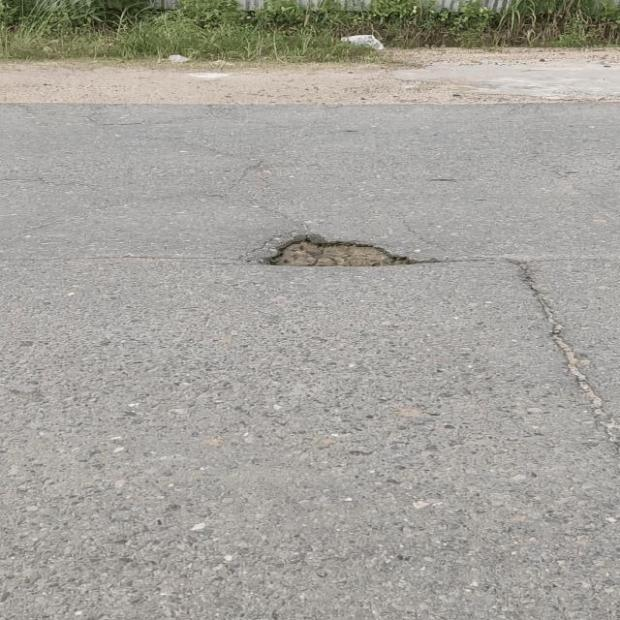lubang: (264, 235, 442, 266)
